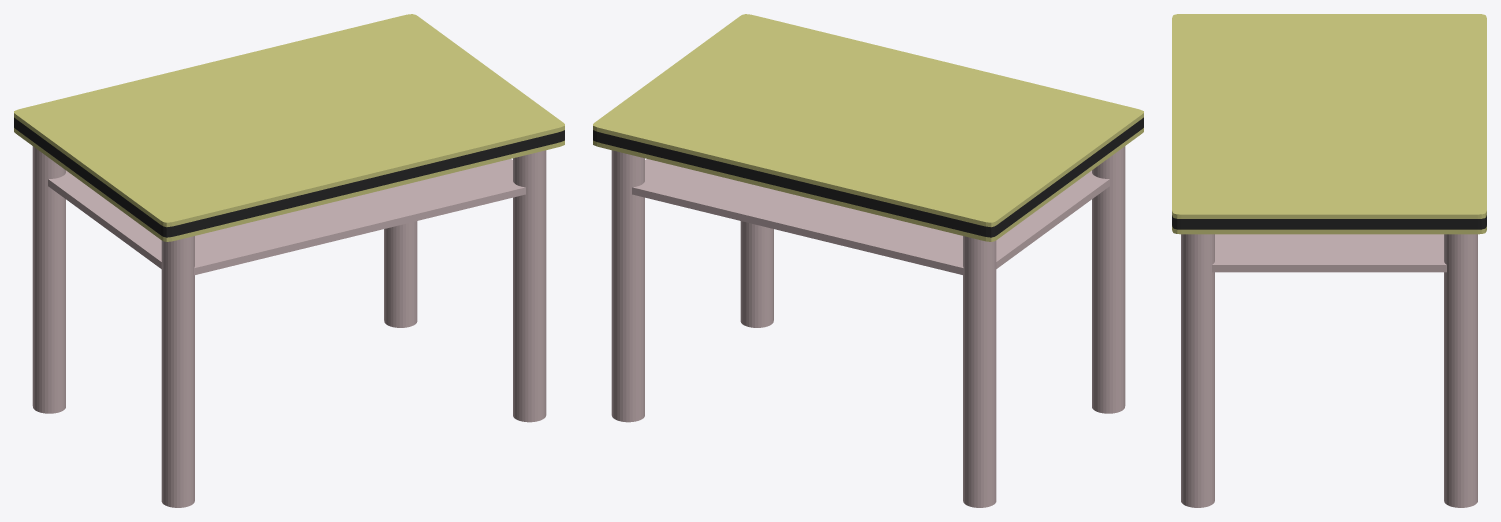
The model's file is Table.fbx.
3 views of the same model, side by side, from view 1: azimuth 30°, elevation 25°; view 2: azimuth 150°, elevation 25°; view 3: azimuth 270°, elevation 25° (orthographic). The views are drawn at different scales.
Visible parts, largest first — view 1: Cube, Cylinder, Cube.001; view 2: Cube, Cylinder, Cube.001; view 3: Cube, Cylinder, Cube.001.
Part boxes in pixels (left/top/right/bottom): Cube: left=14, top=14, right=564, bottom=241; Cylinder: left=32, top=146, right=546, bottom=507; Cube.001: left=48, top=159, right=525, bottom=275; Cube: left=593, top=14, right=1143, bottom=241; Cylinder: left=611, top=146, right=1125, bottom=507; Cube.001: left=632, top=159, right=1109, bottom=275; Cube: left=1172, top=14, right=1486, bottom=234; Cylinder: left=1181, top=234, right=1477, bottom=507; Cube.001: left=1212, top=234, right=1446, bottom=272.
Size of the model in its own units: 301 by 209 by 200.
